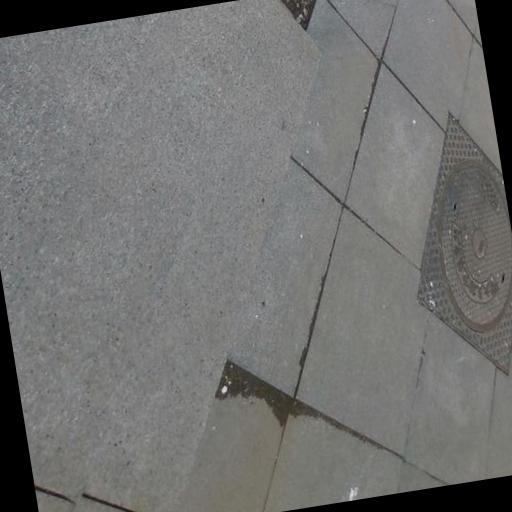stairs: (0, 0, 318, 511)
